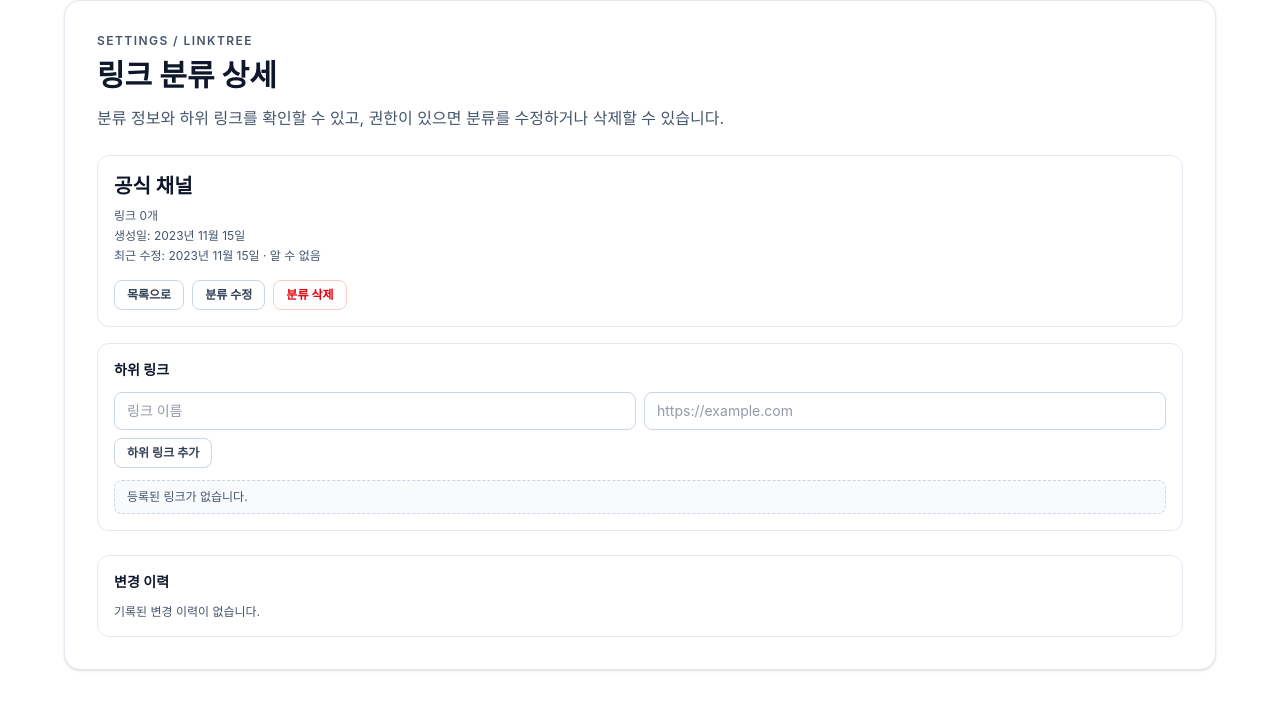
Test: LinktreeGroupDetail › shows validation error when sub-link URL is invalid
The image size is (1280, 720).
Expected: the text "링크 0개" is shown, [114,208,158,223]
In the field with test id "linktree-group-item-name-input": (375, 411) [114,392,636,430], type "Instagram"
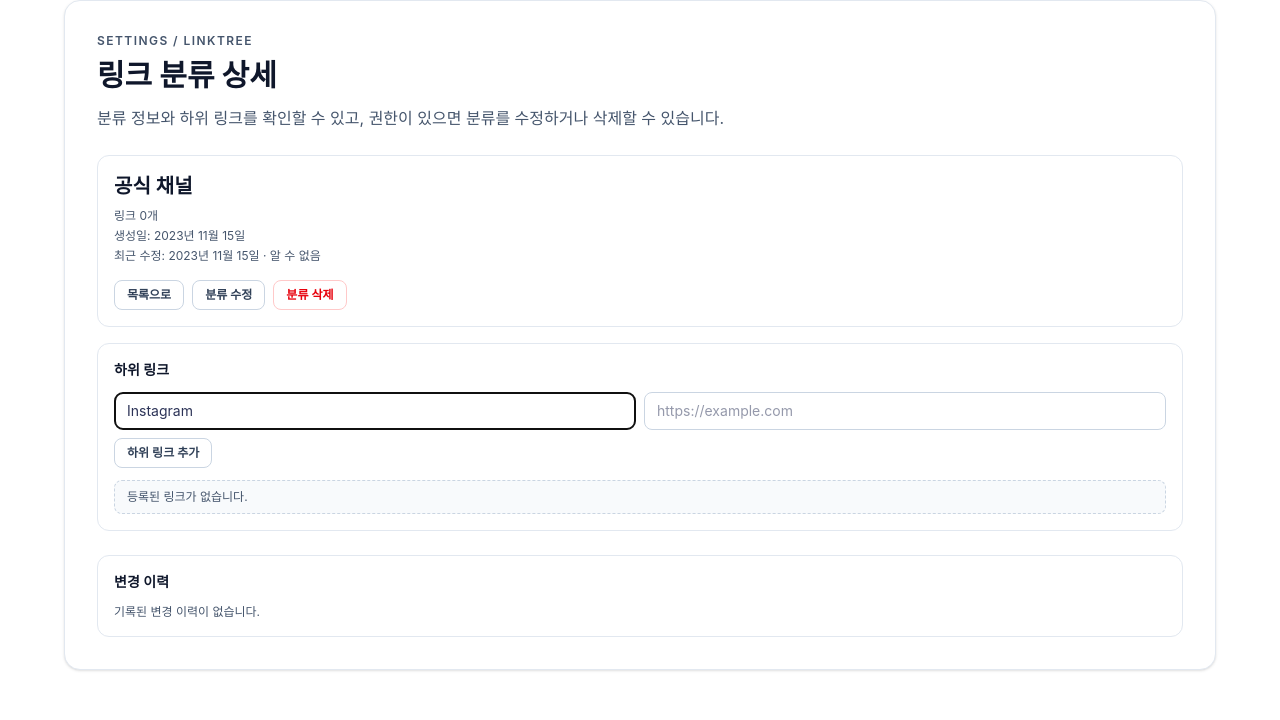
In the field with test id "linktree-group-item-link-input": (905, 411) [644,392,1166,430], type "instagram.com/yonyoung"
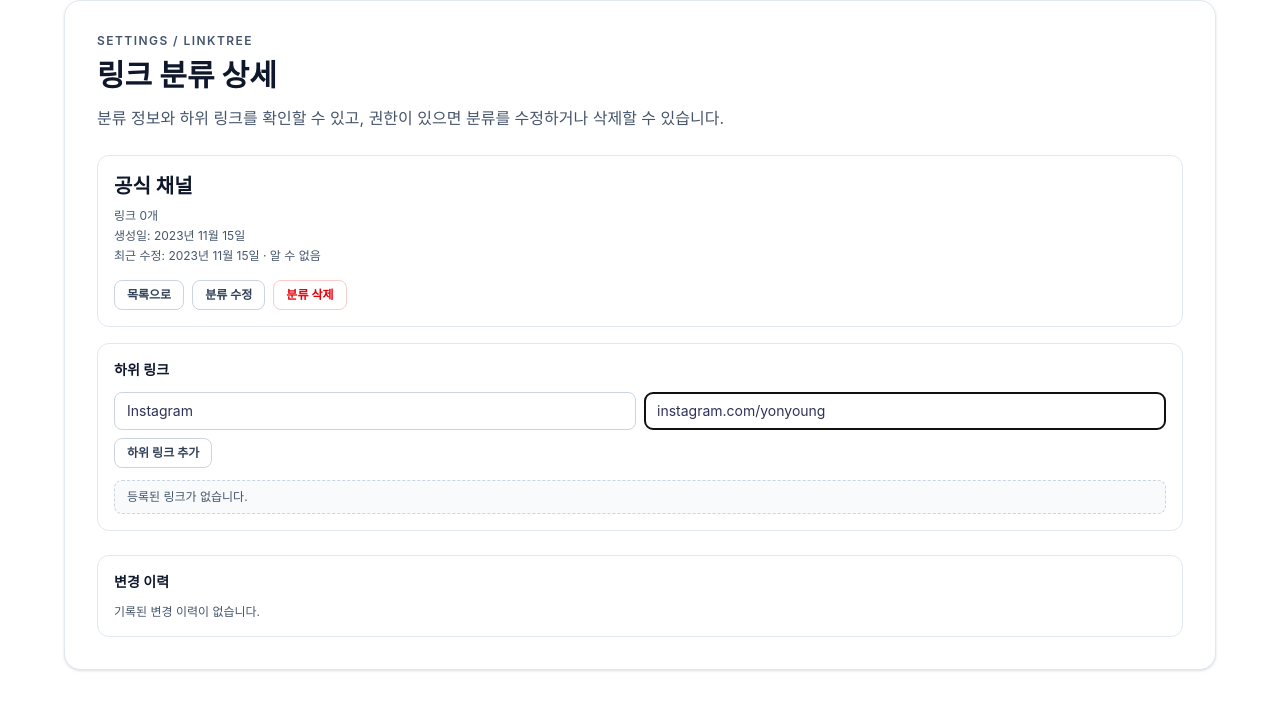
Click the button with test id "linktree-group-item-add-submit": click(163, 453) [114,438,212,468]
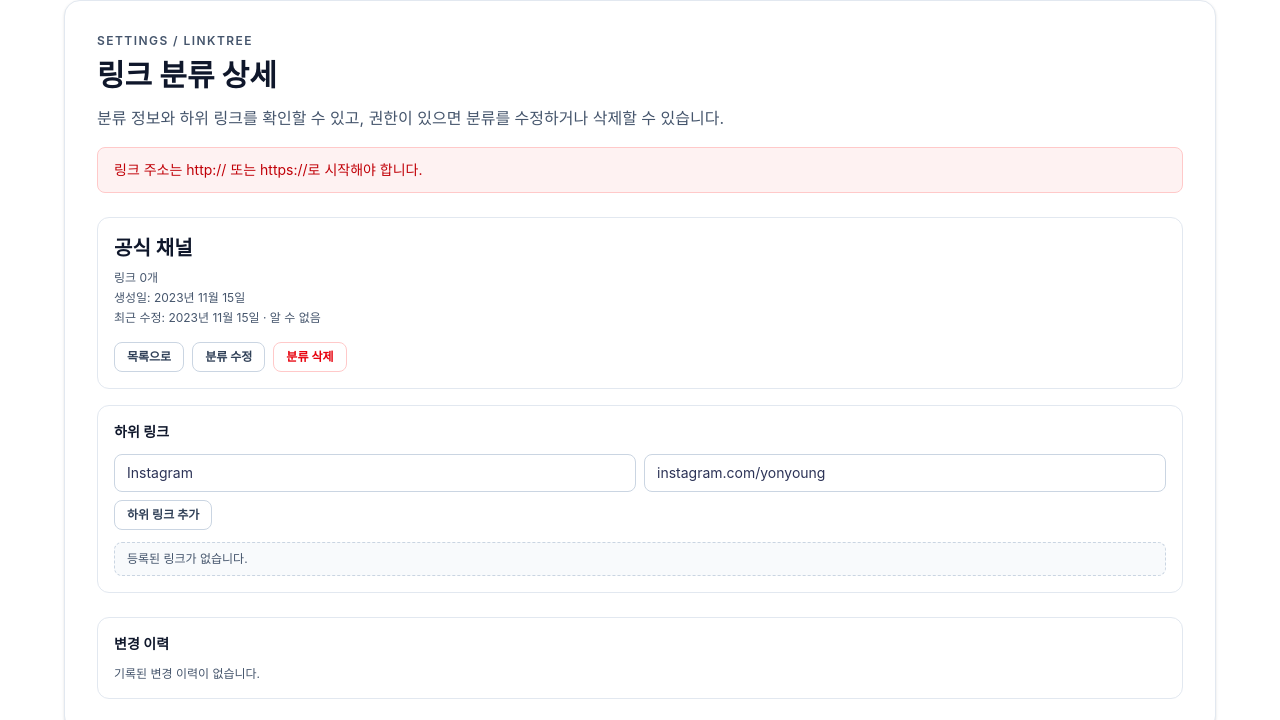
Now the text "링크 주소는 http:// 또는 https://로 시작해야 합니다." is shown, box [97,147,1183,193]
